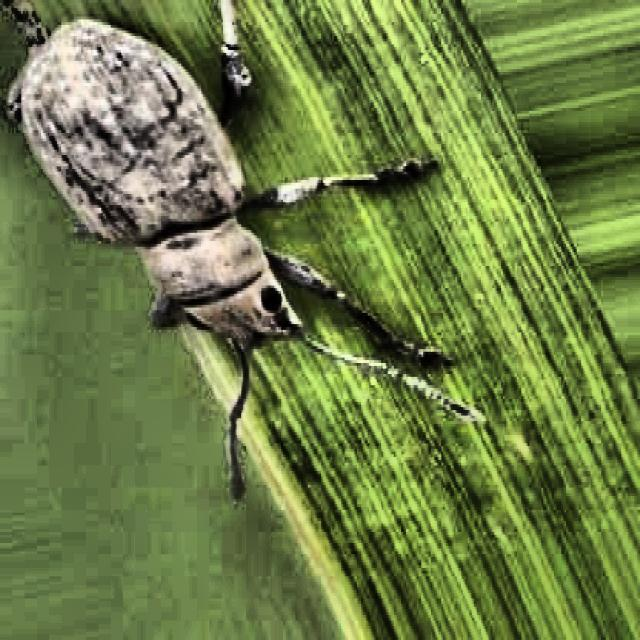Stink bug: (4, 3, 357, 434)
